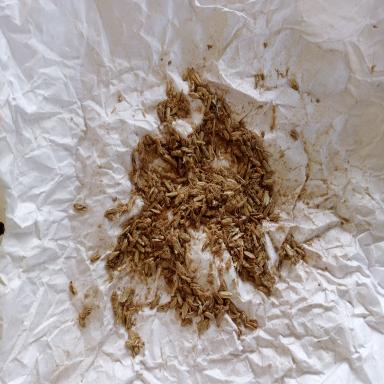pbw: (218, 123, 229, 141), (149, 294, 161, 309), (186, 296, 198, 311), (130, 168, 140, 184), (115, 235, 125, 251), (216, 308, 226, 324), (222, 182, 242, 190), (207, 214, 221, 225), (232, 145, 243, 159), (198, 318, 208, 333), (215, 97, 222, 118), (256, 134, 264, 152), (278, 250, 286, 268), (246, 319, 258, 331), (172, 236, 181, 252), (237, 127, 251, 137), (214, 291, 224, 305), (73, 203, 88, 212), (125, 310, 132, 329), (234, 173, 246, 184), (231, 318, 242, 330), (119, 225, 131, 236), (109, 250, 120, 262), (208, 186, 218, 199), (192, 73, 202, 86), (288, 77, 298, 90), (126, 288, 134, 304), (176, 288, 183, 306), (230, 131, 244, 140), (248, 157, 262, 166), (245, 144, 254, 158), (268, 211, 280, 221), (183, 283, 193, 295), (163, 97, 178, 105), (212, 174, 224, 184), (243, 202, 250, 219), (243, 250, 256, 259), (262, 159, 271, 172), (69, 281, 78, 294), (113, 290, 118, 313), (121, 305, 127, 324), (182, 301, 188, 320), (246, 192, 254, 206), (150, 188, 158, 202), (201, 144, 209, 158), (202, 238, 210, 252), (256, 285, 270, 293), (157, 106, 164, 122), (147, 201, 158, 211), (79, 308, 90, 318), (164, 276, 174, 287), (251, 193, 260, 205), (204, 120, 213, 132), (285, 244, 294, 256), (232, 231, 244, 240), (142, 235, 151, 247), (178, 185, 190, 194), (256, 249, 263, 264), (203, 297, 211, 310), (258, 254, 266, 267), (241, 311, 247, 328), (174, 204, 184, 214), (254, 265, 264, 275), (237, 198, 247, 208), (229, 302, 238, 313), (121, 237, 128, 251), (172, 127, 179, 141), (263, 190, 269, 206), (104, 212, 116, 220), (156, 139, 162, 155), (178, 134, 186, 146), (180, 275, 192, 283), (181, 146, 194, 153), (185, 311, 198, 318), (219, 291, 232, 298), (151, 234, 164, 241), (150, 261, 157, 274), (132, 154, 137, 172), (253, 165, 263, 174), (294, 247, 304, 256), (204, 311, 214, 320), (264, 203, 270, 218), (174, 194, 184, 203), (211, 244, 222, 252), (164, 180, 172, 191), (170, 297, 178, 308), (290, 232, 295, 249), (200, 171, 207, 183), (196, 148, 202, 162), (220, 218, 232, 225), (118, 253, 124, 267), (140, 217, 152, 224), (246, 168, 252, 182), (237, 161, 244, 173), (220, 166, 228, 176), (229, 227, 239, 235), (145, 135, 153, 145), (181, 233, 191, 241), (156, 191, 164, 201), (117, 208, 125, 218), (239, 165, 247, 175), (90, 254, 100, 262), (199, 205, 207, 215), (170, 106, 178, 116), (116, 309, 121, 325), (140, 169, 148, 179), (142, 272, 148, 285), (253, 234, 259, 247), (168, 85, 174, 98), (107, 206, 118, 213), (116, 203, 127, 210), (206, 96, 211, 111), (211, 136, 216, 151), (189, 283, 201, 289), (269, 202, 275, 214), (254, 246, 262, 255), (210, 237, 216, 249), (263, 178, 275, 184), (155, 204, 164, 212), (136, 176, 142, 188), (204, 209, 216, 215), (136, 243, 144, 252), (203, 114, 215, 120), (192, 195, 204, 201), (250, 216, 259, 224), (165, 194, 171, 206), (291, 130, 298, 140), (176, 177, 186, 184), (263, 172, 273, 179), (142, 211, 152, 218), (230, 312, 241, 318), (230, 250, 236, 261), (189, 92, 200, 98), (185, 218, 192, 227), (224, 104, 231, 113), (196, 216, 206, 222), (131, 346, 136, 358), (197, 292, 209, 297), (134, 250, 139, 262), (252, 213, 264, 218), (197, 182, 207, 188), (166, 107, 170, 122), (255, 74, 260, 86), (129, 224, 135, 234), (181, 318, 188, 326), (204, 91, 208, 105), (166, 80, 170, 94), (143, 156, 147, 170), (226, 178, 237, 183), (250, 173, 261, 178), (153, 250, 162, 256), (240, 246, 243, 264), (144, 247, 153, 253), (208, 147, 212, 160), (183, 194, 188, 204), (224, 191, 234, 196), (144, 263, 149, 273), (179, 218, 186, 225), (199, 296, 205, 304), (166, 192, 178, 196), (155, 258, 163, 264), (124, 250, 128, 262), (261, 151, 270, 156), (137, 223, 148, 227), (186, 100, 190, 111), (150, 209, 161, 213), (196, 298, 202, 305), (264, 259, 267, 273), (176, 184, 182, 191), (232, 154, 237, 162), (176, 110, 184, 115), (258, 150, 262, 160), (175, 308, 182, 312), (180, 113, 186, 117), (216, 142, 218, 154)
